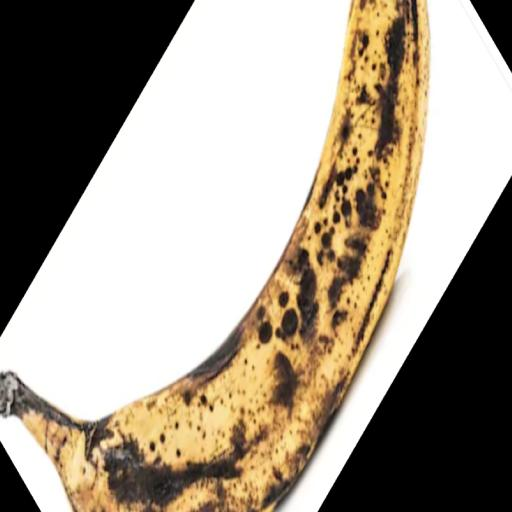banana-overripe: (1, 197, 434, 512)
